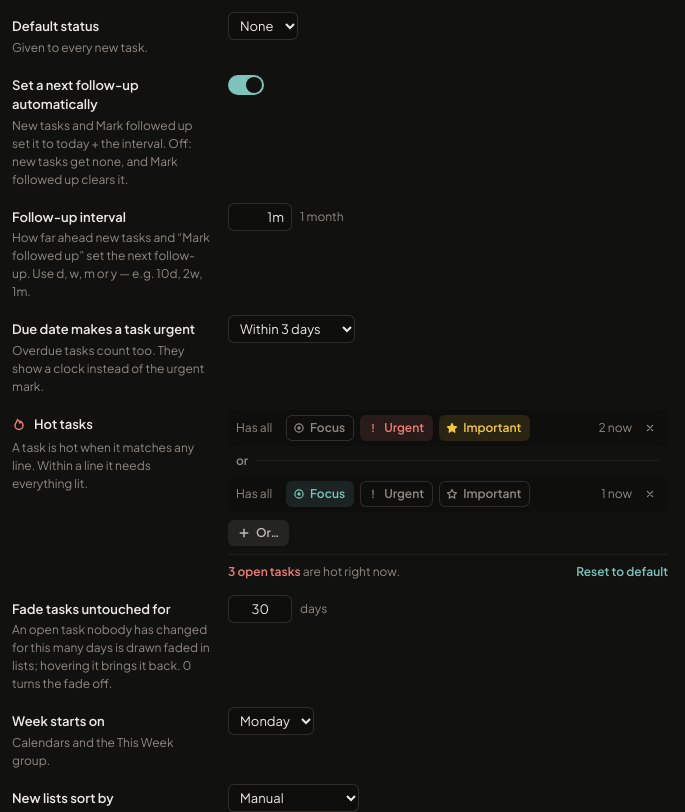
Test: TaskDefaultsSection — Hot tasks › toggling a marker saves the rule at once and updates the counts
The width and height of the screenshot is (685, 812).
Click the button "Urgent" in the row of "2 now".
click(397, 428)  # box [360,414,433,440]
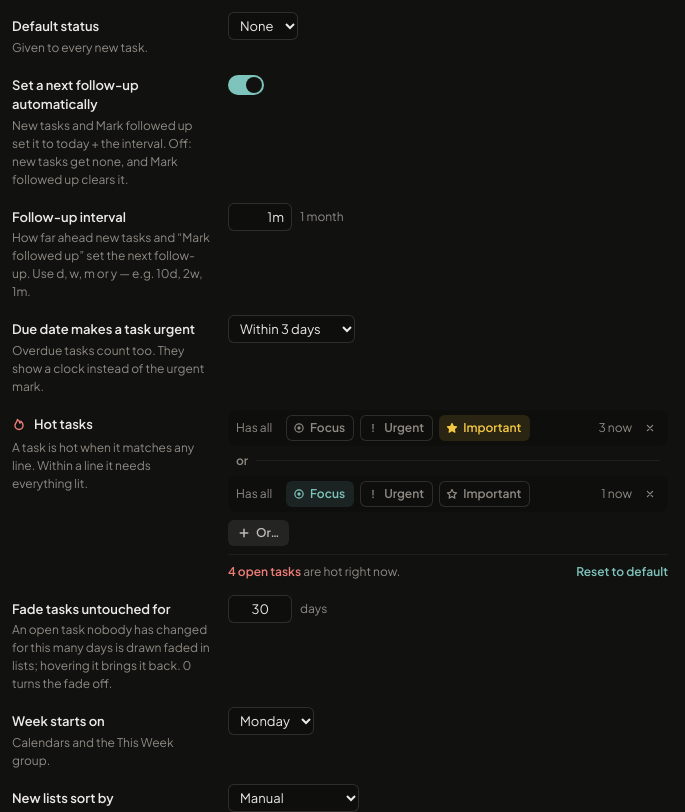
Now the element with test id "hot-rule-total" reads "4 open tasks are hot right now.", box [228,562,400,580]
